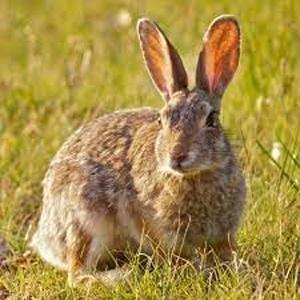rabbit: (31, 15, 245, 284)
